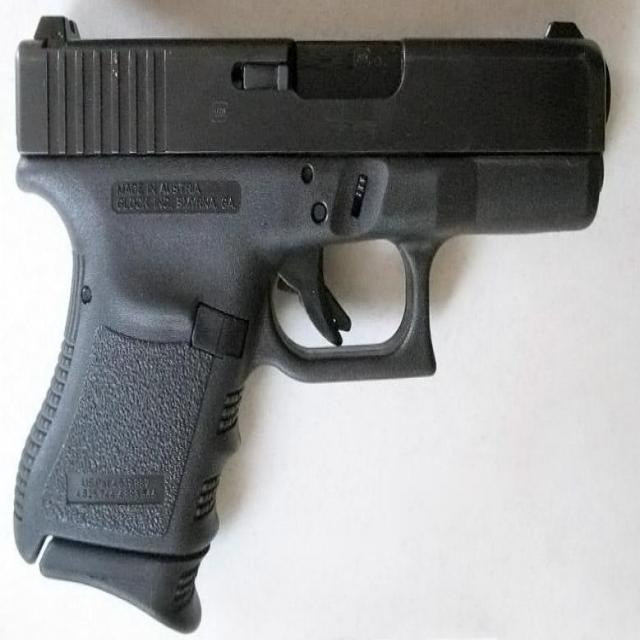pistol: (6, 16, 610, 623)
